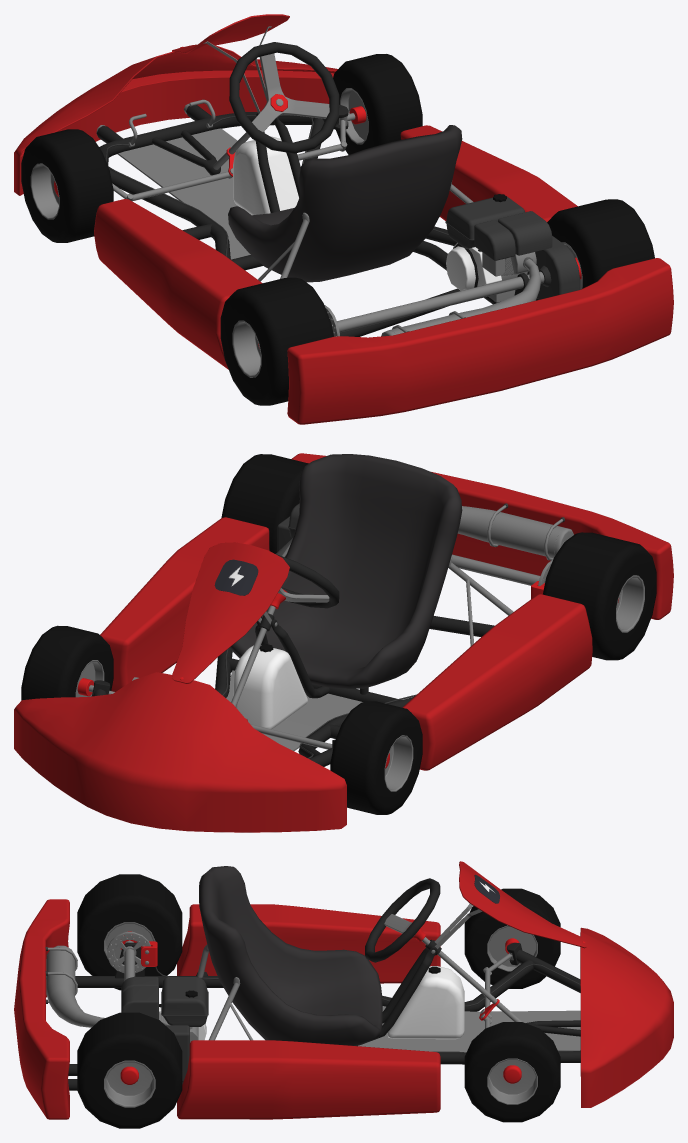
File: vehicle-gokart.glb
The picture shows the model from 3 angles, top to bottom: view 1: azimuth 30°, elevation 25°; view 2: azimuth 150°, elevation 25°; view 3: azimuth 270°, elevation 25°; orthographic projection. The views are drawn at different scales.
Parts seen in each view (by area): view 1: Bumper_Front_Black_Material_0, Wheel_BL_tireBL, Wheel_FL_tireFL, Wheel_FR_tireFR, Wheel_BR_tireBR; view 2: Bumper_Front_Black_Material_0, Wheel_BL_tireBL, Wheel_FL_tireFL, Wheel_FR_tireFR, Wheel_BR_tireBR; view 3: Bumper_Front_Black_Material_0, Wheel_BR_tireBR, Wheel_FR_tireFR, Wheel_BL_tireBL, Wheel_FL_tireFL.
Boxes of the visible parts, x1,y1,x2,y2 form: Bumper_Front_Black_Material_0: (14, 14, 673, 424); Wheel_BL_tireBL: (220, 277, 333, 405); Wheel_FL_tireFL: (21, 129, 113, 242); Wheel_FR_tireFR: (333, 54, 422, 154); Wheel_BR_tireBR: (547, 199, 654, 289); Bumper_Front_Black_Material_0: (14, 453, 673, 832); Wheel_BL_tireBL: (543, 532, 656, 660); Wheel_FL_tireFL: (330, 701, 422, 814); Wheel_FR_tireFR: (21, 625, 113, 700); Wheel_BR_tireBR: (221, 454, 308, 553); Bumper_Front_Black_Material_0: (14, 861, 673, 1119); Wheel_BR_tireBR: (77, 1012, 182, 1128); Wheel_FR_tireFR: (464, 1022, 560, 1122); Wheel_BL_tireBL: (77, 874, 182, 990); Wheel_FL_tireFL: (464, 888, 560, 988).
Bounding box in the file's own units: 1.48 × 0.7477 × 2.49.
Materials: 1 (1 with a texture image).
